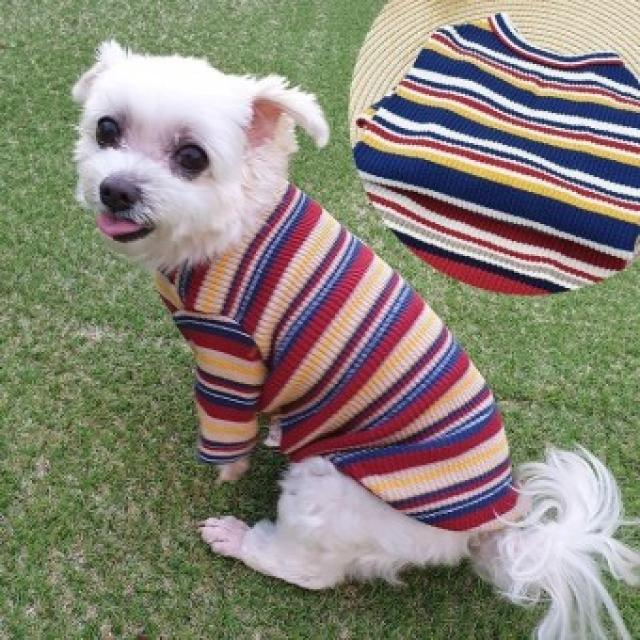cloth: (158, 185, 516, 531)
